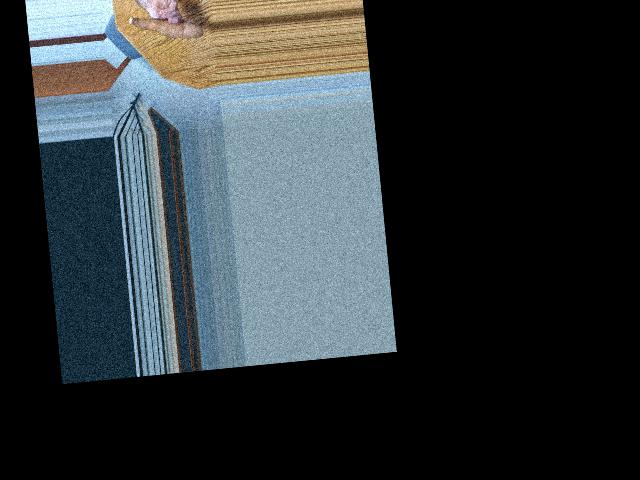sweet_potato: (127, 7, 201, 46)
